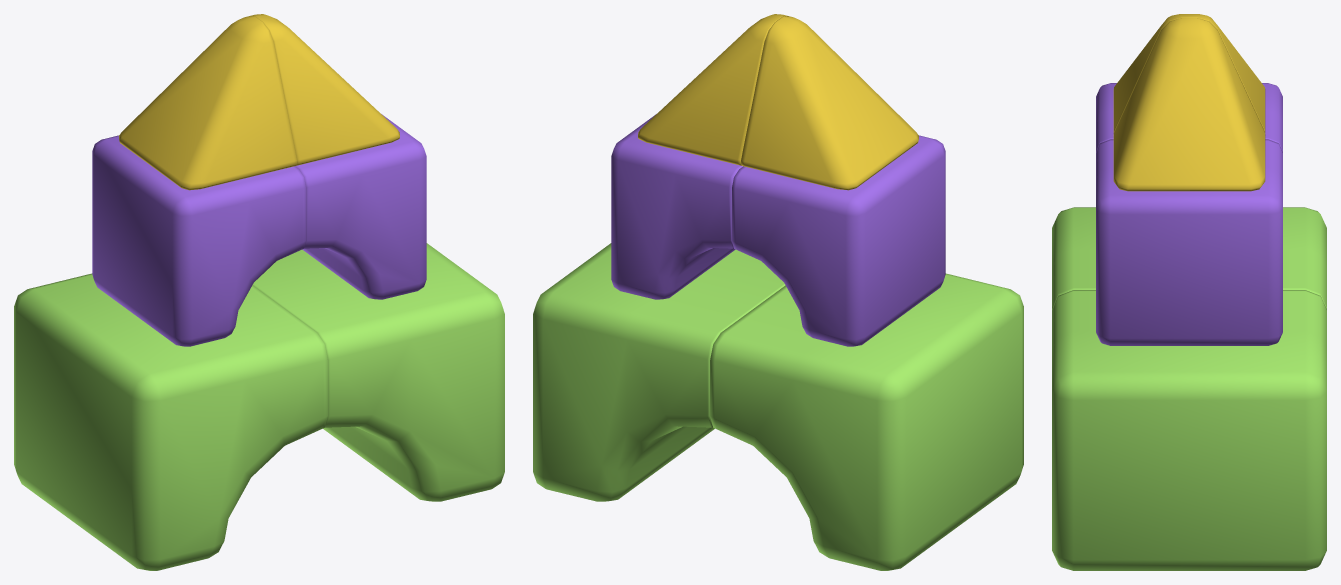
Rendered from SM_WoodenToy_01a.fbx.
The picture shows the model from 3 angles, left to right: view 1: azimuth 30°, elevation 25°; view 2: azimuth 150°, elevation 25°; view 3: azimuth 270°, elevation 25°; orthographic projection.
Visible parts, largest first — view 1: WoodenToy_02, WoodenToy_01; view 2: WoodenToy_02, WoodenToy_01; view 3: WoodenToy_01, WoodenToy_02.
Boxes of the visible parts, x1,y1,x2,y2 form: WoodenToy_02: (14,16,327,570); WoodenToy_01: (250,14,504,501); WoodenToy_02: (710,16,1023,570); WoodenToy_01: (533,14,787,501); WoodenToy_01: (1052,18,1326,570); WoodenToy_02: (1052,14,1326,308).
Size of the model in its own units: 26 by 31.36 by 16.6.
